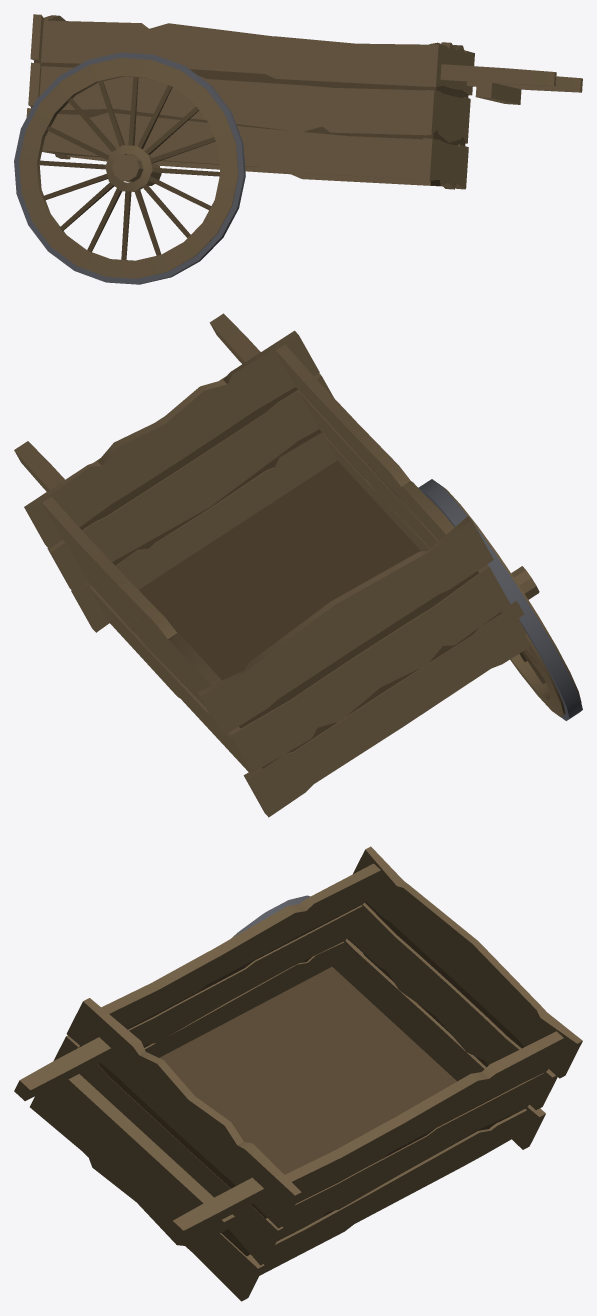
The model's file is Cart.glb.
The picture shows the model from 3 angles, top to bottom: view 1: azimuth 30°, elevation 25°; view 2: azimuth 150°, elevation 25°; view 3: azimuth 270°, elevation 25°; orthographic projection. The views are drawn at different scales.
Visible parts, largest first — view 1: Cart; view 2: Cart; view 3: Cart.
Part boxes in pixels (x1,y1,x2,y2): Cart: (14,14,582,284); Cart: (14,313,582,817); Cart: (14,846,582,1301).
Size of the model in its own units: 3.31 by 1.38 by 2.83.
